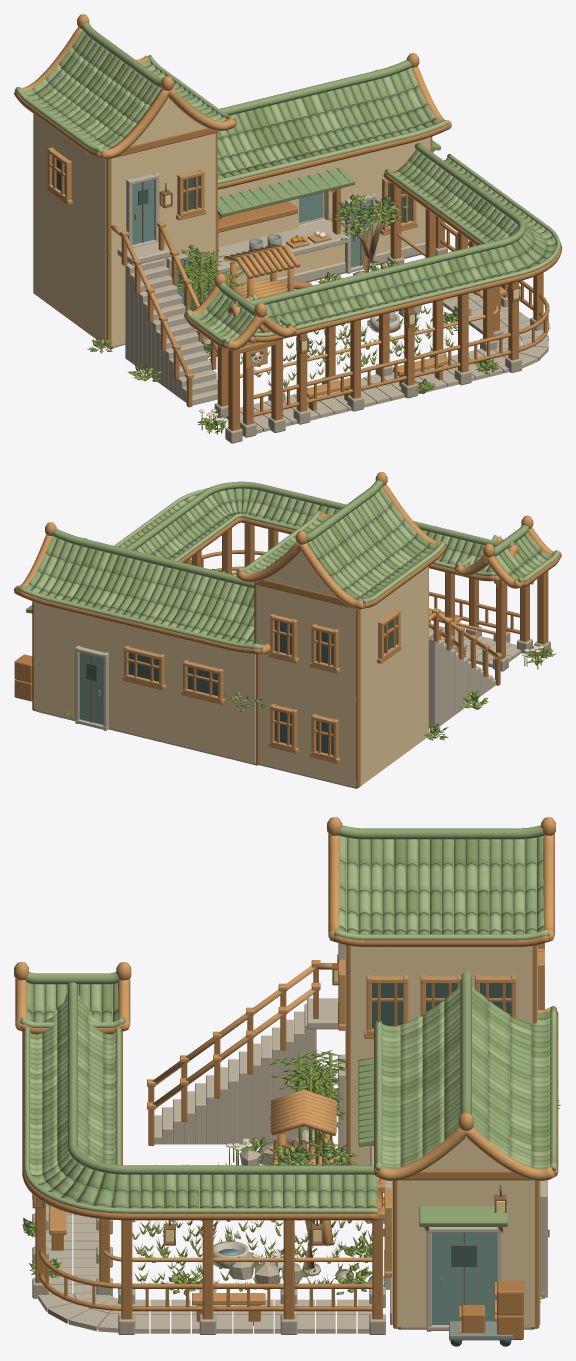
The picture shows the model from 3 angles, top to bottom: view 1: azimuth 30°, elevation 25°; view 2: azimuth 150°, elevation 25°; view 3: azimuth 270°, elevation 25°; orthographic projection. The views are drawn at different scales.
Parts seen in each view (by area): view 1: SM_动物园_02_曲面屋顶, SM_动物园_01_建筑墙体, SM_动物园_03_木构回廊, SM_动物园_04_门窗楼梯, SM_动物园_06_景观设施, SM_动物园_05_景观植物; view 2: SM_动物园_01_建筑墙体, SM_动物园_02_曲面屋顶, SM_动物园_04_门窗楼梯, SM_动物园_03_木构回廊, SM_动物园_05_景观植物, SM_动物园_06_景观设施; view 3: SM_动物园_02_曲面屋顶, SM_动物园_04_门窗楼梯, SM_动物园_01_建筑墙体, SM_动物园_03_木构回廊, SM_动物园_06_景观设施, SM_动物园_05_景观植物.
Part boxes in pixels (x1,y1,x2,y2): SM_动物园_02_曲面屋顶: [14, 14, 561, 350]; SM_动物园_01_建筑墙体: [33, 97, 432, 347]; SM_动物园_03_木构回廊: [214, 170, 549, 443]; SM_动物园_04_门窗楼梯: [47, 140, 440, 407]; SM_动物园_06_景观设施: [159, 183, 520, 411]; SM_动物园_05_景观植物: [87, 194, 499, 434]; SM_动物园_01_建筑墙体: [32, 551, 428, 788]; SM_动物园_02_曲面屋顶: [14, 472, 561, 654]; SM_动物园_04_门窗楼梯: [26, 605, 501, 763]; SM_动物园_03_木构回廊: [184, 519, 550, 671]; SM_动物园_05_景观植物: [60, 569, 556, 740]; SM_动物园_06_景观设施: [14, 581, 533, 701]; SM_动物园_02_曲面屋顶: [14, 817, 558, 1220]; SM_动物园_04_门窗楼梯: [147, 943, 549, 1331]; SM_动物园_01_建筑墙体: [345, 945, 540, 1329]; SM_动物园_03_木构回廊: [32, 1074, 385, 1334]; SM_动物园_06_景观设施: [32, 954, 523, 1346]; SM_动物园_05_景观植物: [22, 1050, 560, 1302].
Size of the model in its own units: 11.62 by 7.54 by 11.14.
